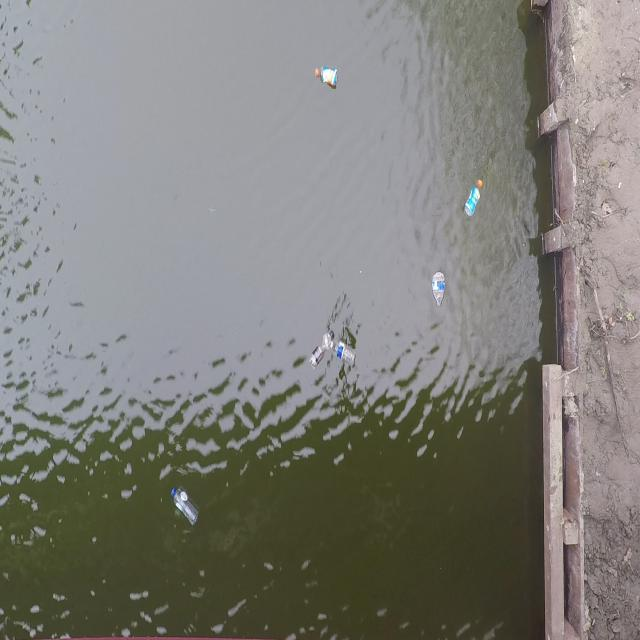Bouteille plastique: (303, 320, 334, 377), (324, 336, 362, 379), (166, 485, 199, 529), (462, 175, 488, 222), (431, 267, 448, 319), (313, 62, 340, 94)
